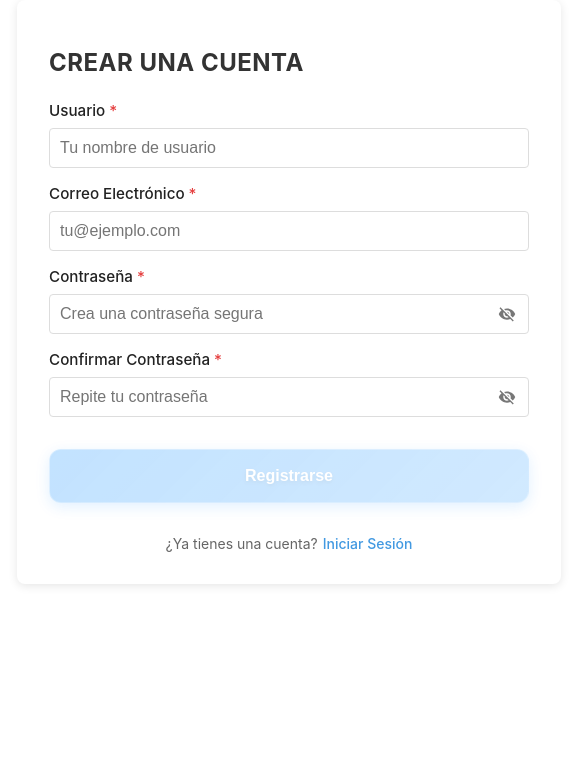
Scenario: SignUpForm - pruebas negativas y comportamiento del envío › muestra error de requisitos de contraseña no cumplidos y evita el envío
Type "Bob" into the field labelled "Usuario*" at [289, 148], box [49,128,529,168]
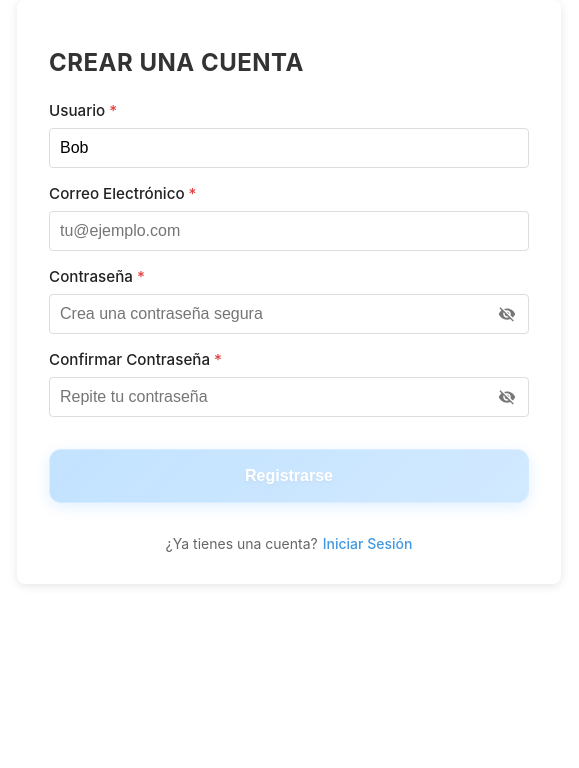
Type "bob@site.com" into the field labelled "Correo Electrónico*" at [289, 231], box [49,211,529,251]
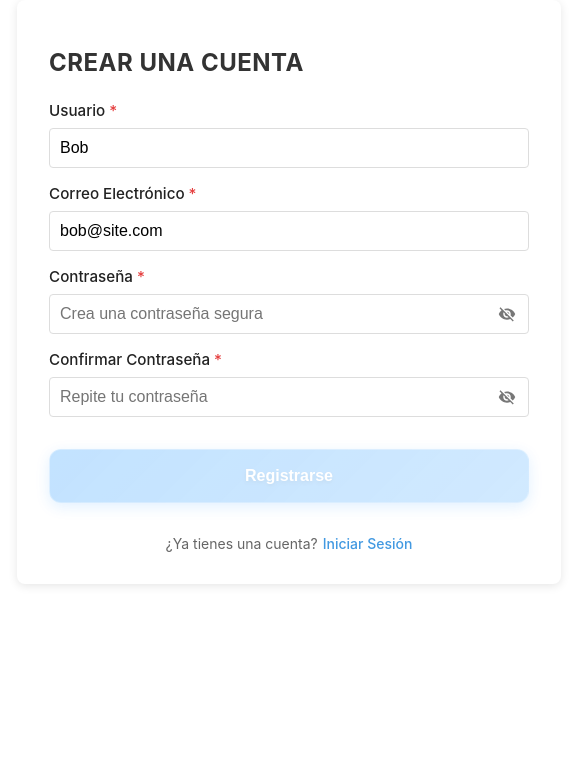
Type "weak" into the password field with placeholder "Crea una contraseña segura" at [289, 314], box [49,294,529,334]
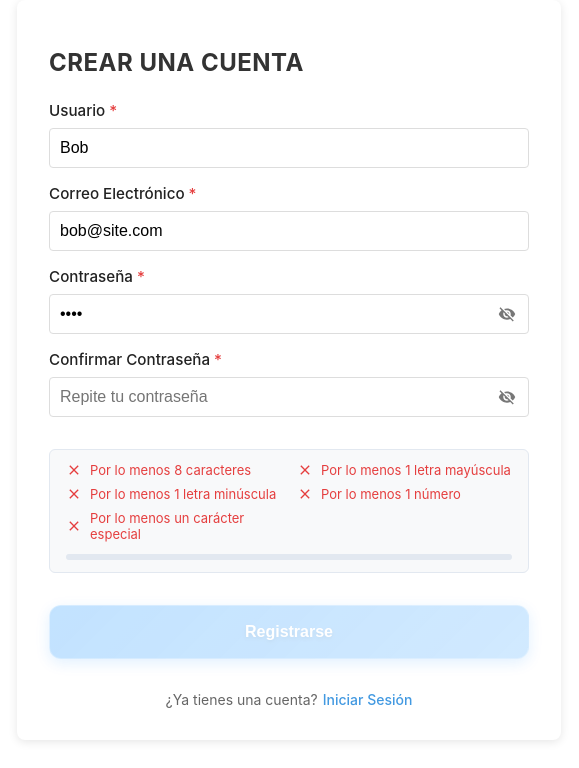
Type "weak" into the password field with placeholder "Repite tu contraseña" at [289, 397], box [49,377,529,417]
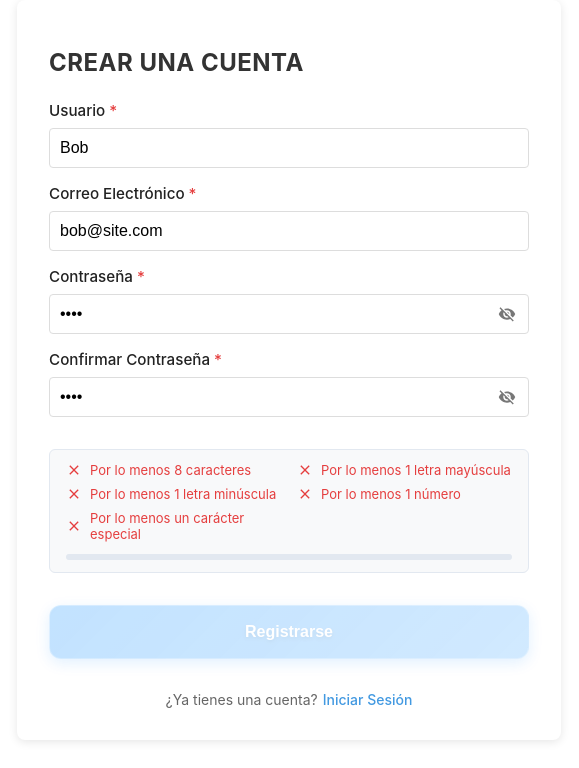
Submit the form
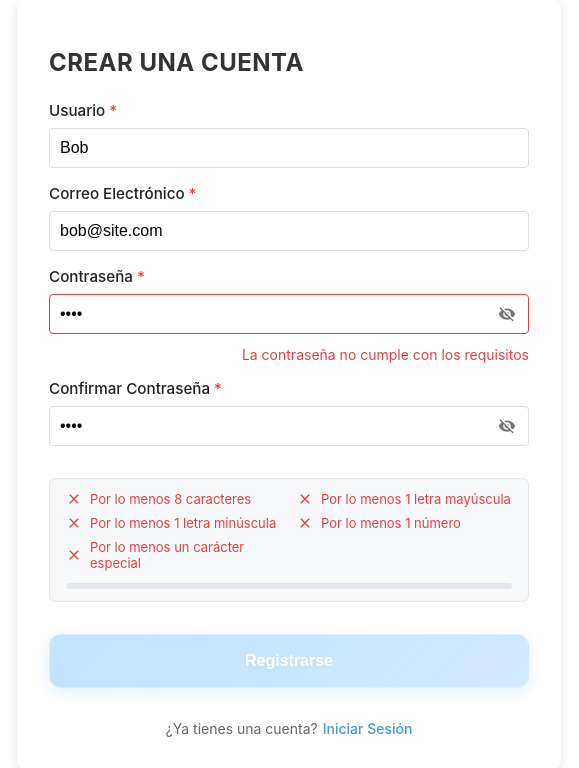
Expected: the text "La contraseña no cumple con los requisitos" is shown, [242,346,529,363]
